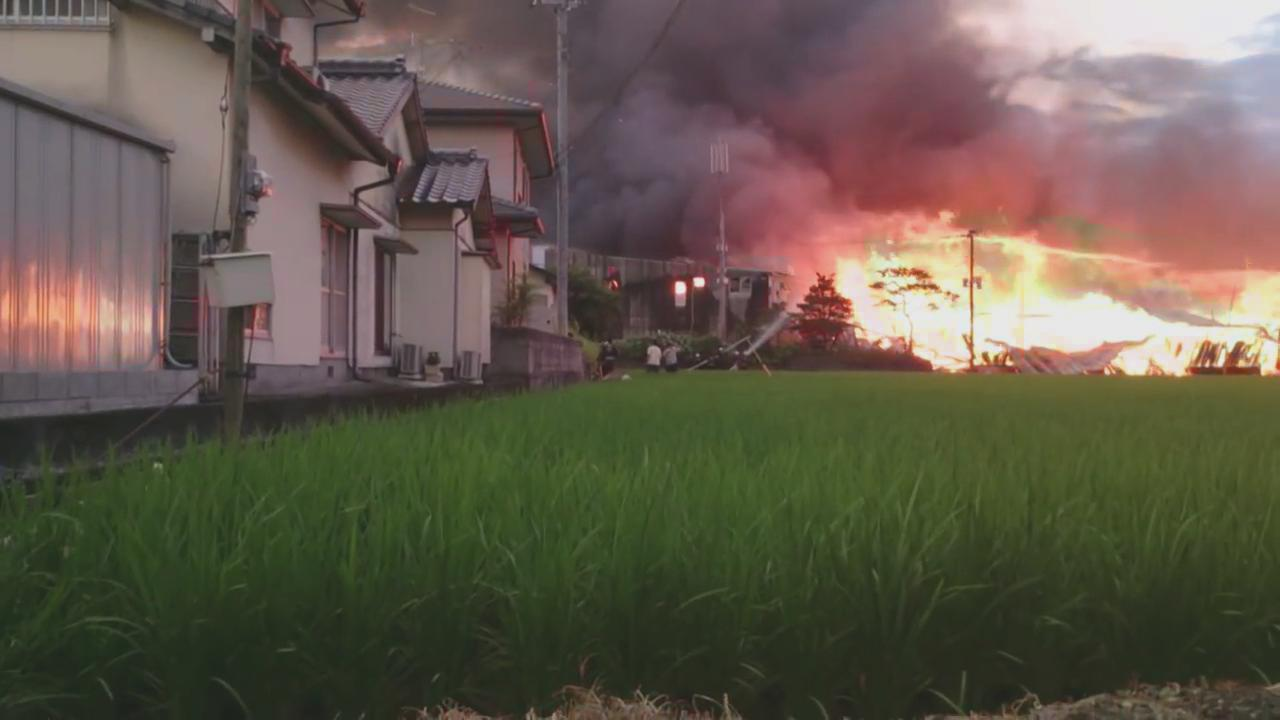Fire: (824, 218, 1280, 371)
